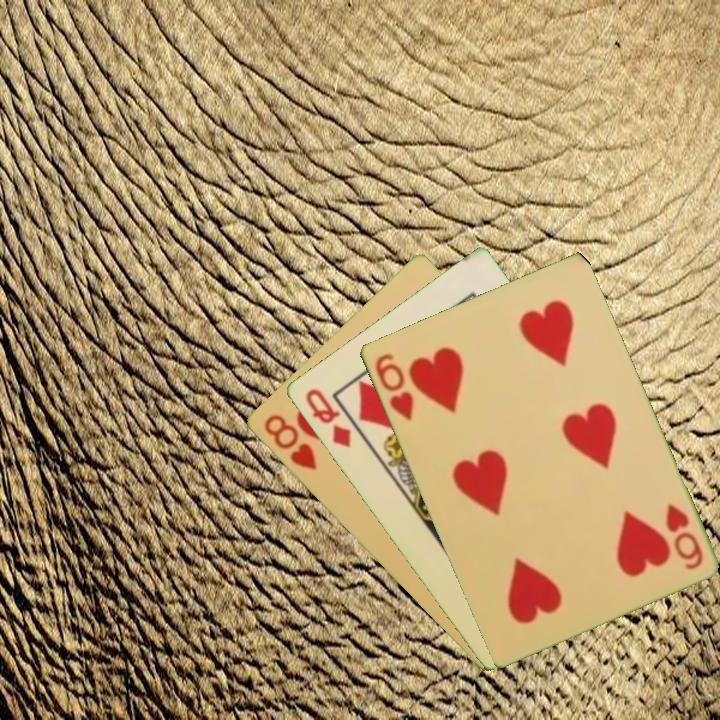6h: (371, 349, 416, 424), (661, 499, 706, 573)
8h: (260, 410, 319, 474)
Qd: (301, 385, 354, 451)
